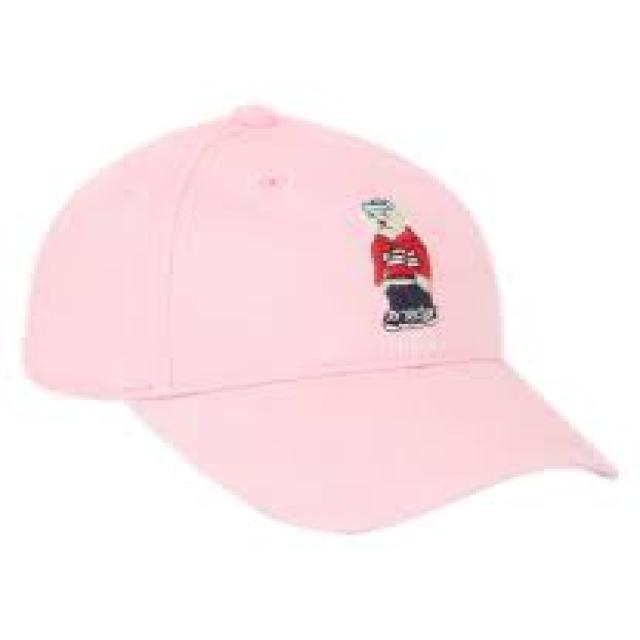cap: (22, 94, 640, 545)
